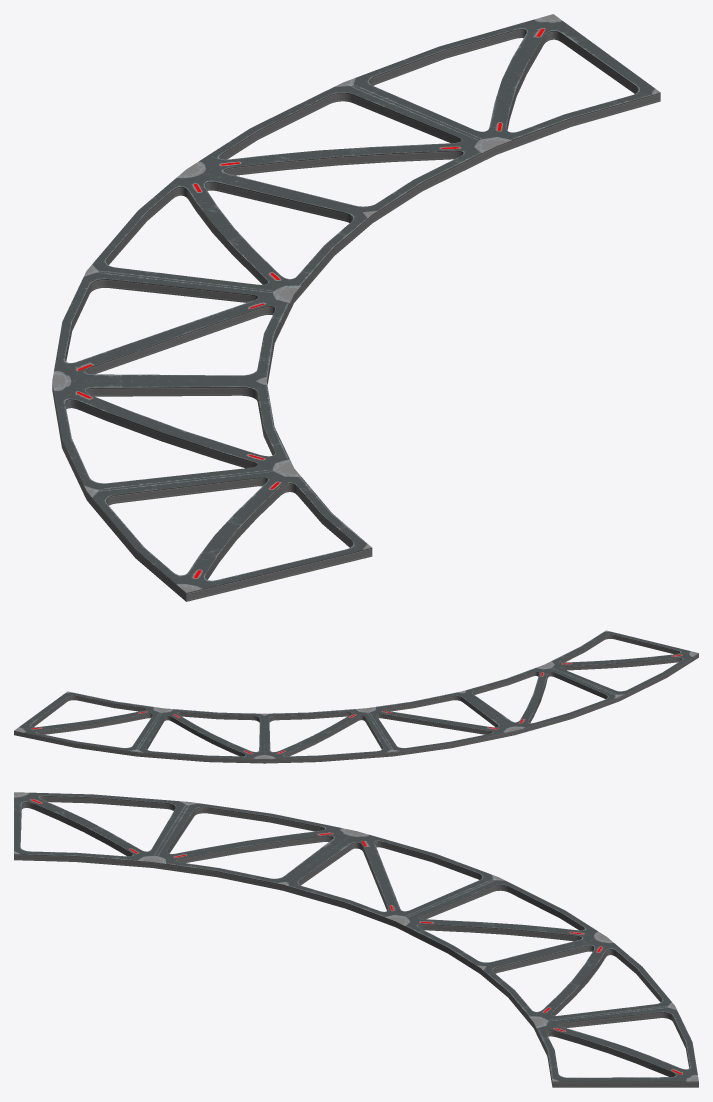
File: quaternius-scifi-column-metal-curve.glb
The picture shows the model from 3 angles, top to bottom: view 1: azimuth 30°, elevation 25°; view 2: azimuth 150°, elevation 25°; view 3: azimuth 270°, elevation 25°; orthographic projection. The views are drawn at different scales.
Visible parts, largest first — view 1: Column_MetalSupport_Curve; view 2: Column_MetalSupport_Curve; view 3: Column_MetalSupport_Curve.
Boxes of the visible parts, x1=… form: Column_MetalSupport_Curve: x1=52, y1=14, x2=660, y2=601; Column_MetalSupport_Curve: x1=14, y1=630, x2=698, y2=763; Column_MetalSupport_Curve: x1=14, y1=792, x2=698, y2=1087.
Bounding box in the file's own units: 4.47 × 0.044 × 4.47.
Materials: 2 (2 with a texture image).
